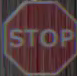Stop: (5, 5, 72, 61)
